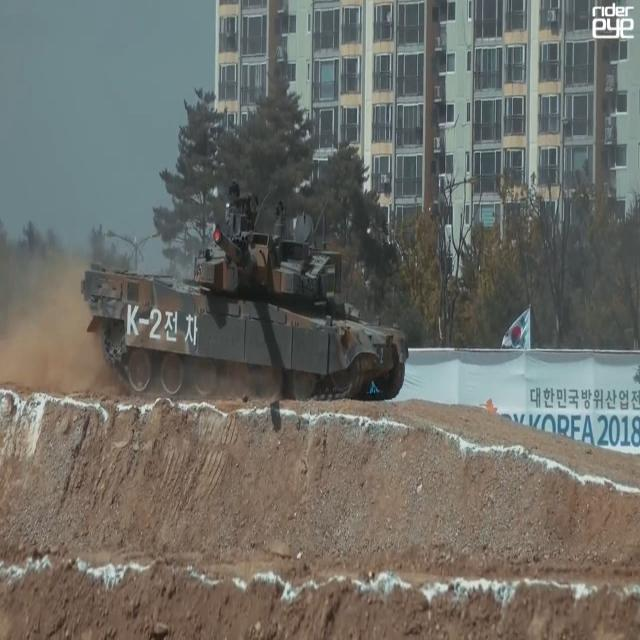korea tank: (77, 180, 409, 410)
